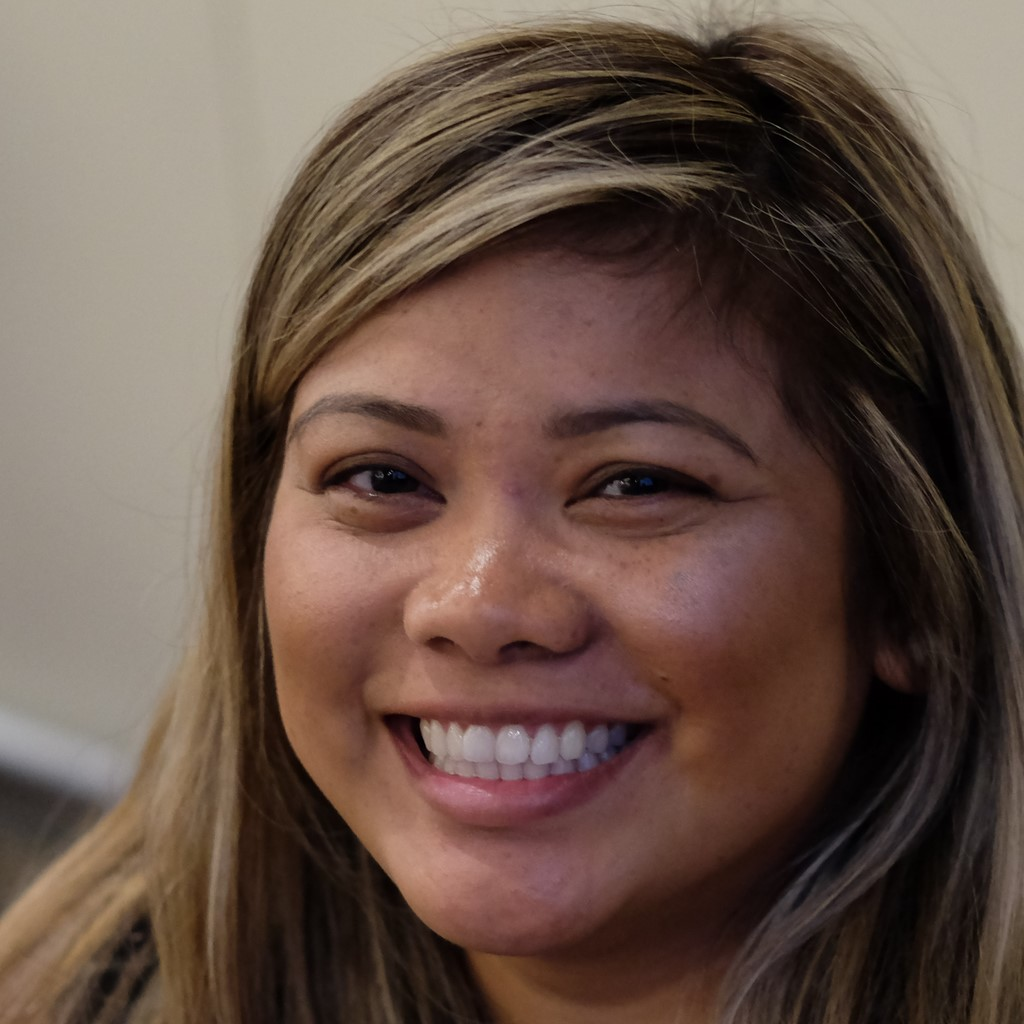sin_mascara: (264, 124, 907, 961)
